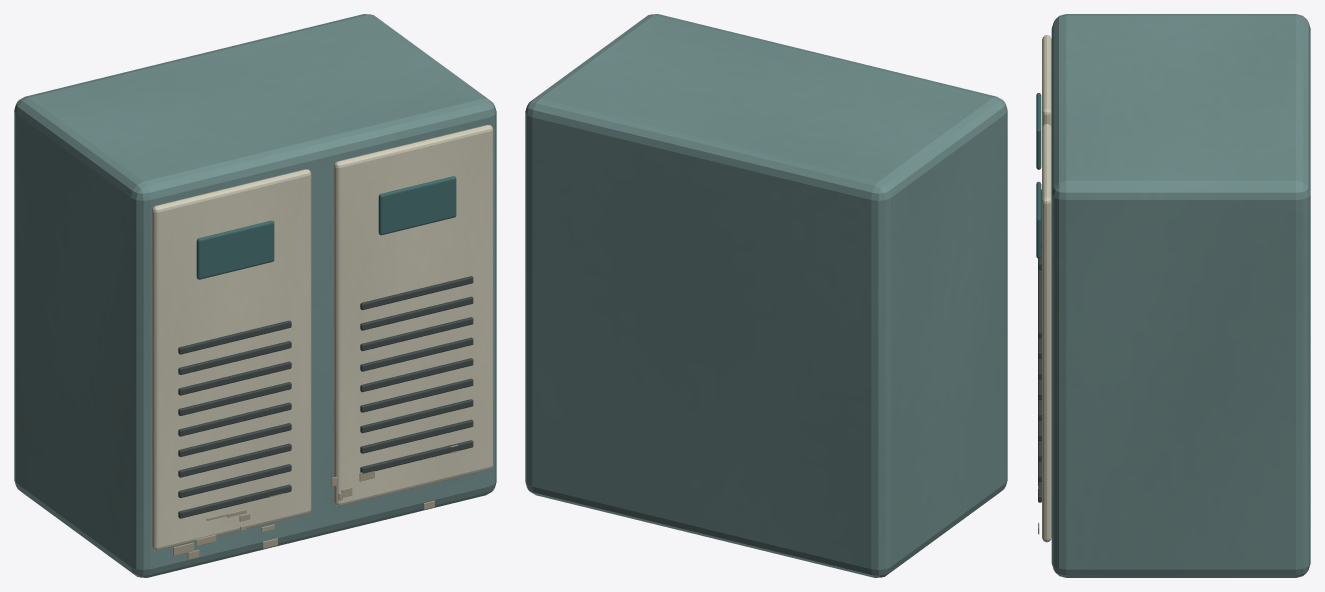
The model's file is Power_Unit.glb.
The picture shows the model from 3 angles, left to right: view 1: azimuth 30°, elevation 25°; view 2: azimuth 150°, elevation 25°; view 3: azimuth 270°, elevation 25°; orthographic projection.
Visible parts, largest first — view 1: Power_Unit; view 2: Power_Unit; view 3: Power_Unit.
Boxes of the visible parts, x1,y1,x2,y2 form: Power_Unit: (14,14,496,577); Power_Unit: (525,14,1007,577); Power_Unit: (1036,14,1310,577).
Size of the model in its own units: 2.6 by 2.7 by 1.69.
Materials: 5 (2 with a texture image).
